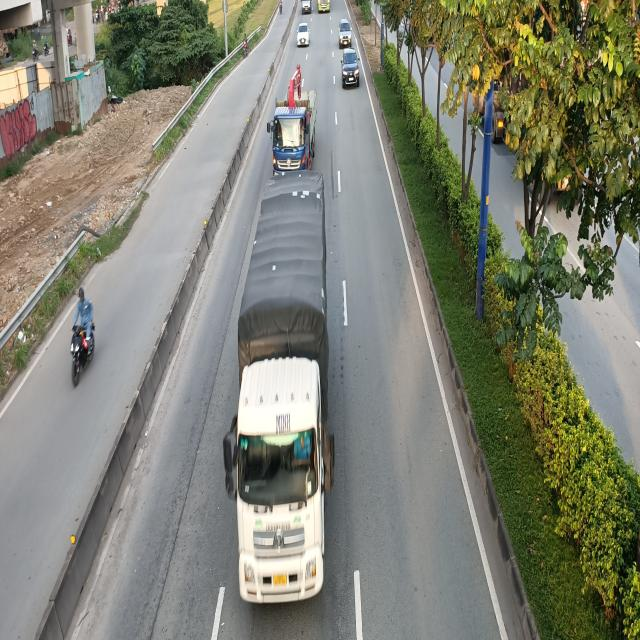car: (342, 51, 361, 88), (339, 18, 353, 48), (296, 22, 309, 47)
truck: (222, 179, 336, 614), (268, 69, 316, 177)
